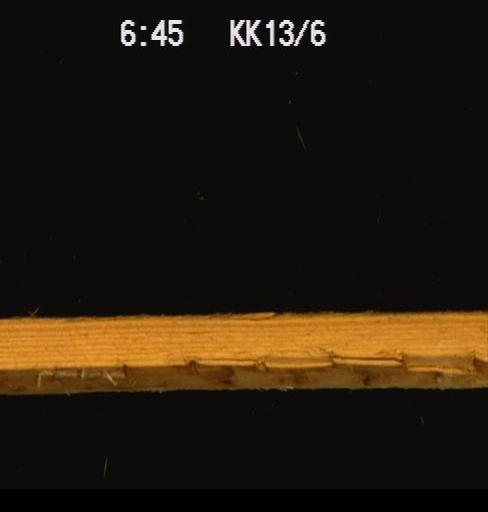wave: (0, 309, 486, 379)
